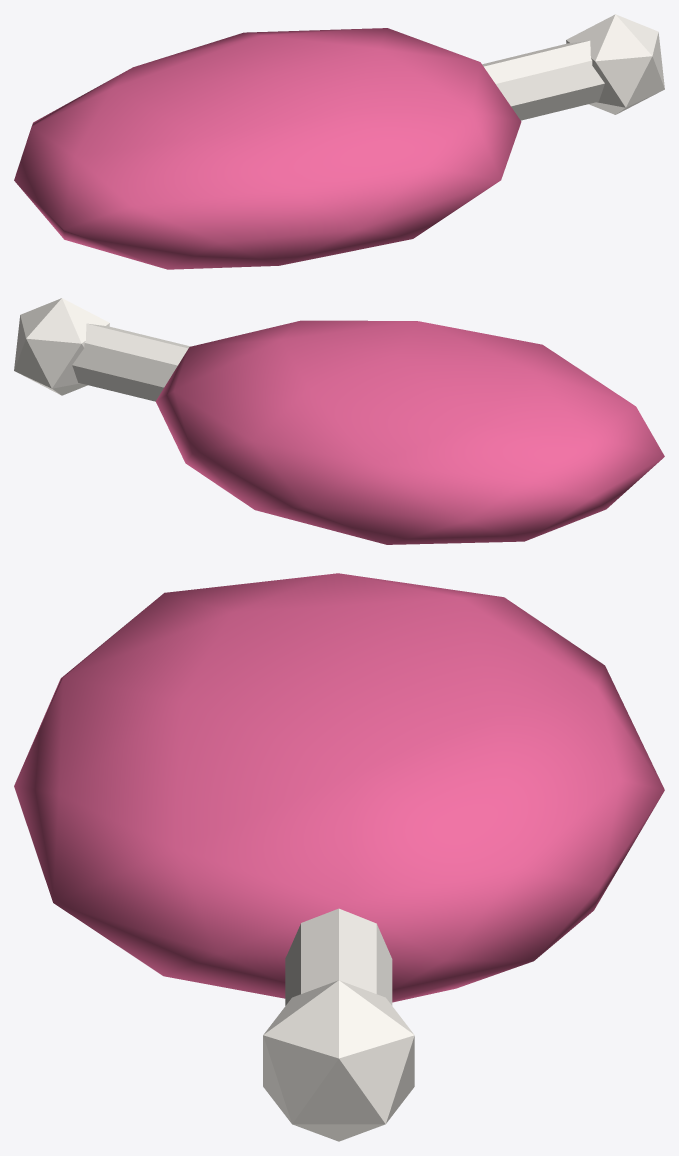
File: Bait_Steak.fbx
The picture shows the model from 3 angles, top to bottom: view 1: azimuth 30°, elevation 25°; view 2: azimuth 150°, elevation 25°; view 3: azimuth 270°, elevation 25°; orthographic projection. The views are drawn at different scales.
Visible parts, largest first — view 1: Bait.002, Stone.002; view 2: Bait.002, Stone.002; view 3: Bait.002, Stone.002.
Part boxes in pixels (left/top/right/bottom): Bait.002: left=14, top=28, right=521, bottom=269; Stone.002: left=482, top=14, right=664, bottom=120; Bait.002: left=155, top=320, right=664, bottom=544; Stone.002: left=14, top=298, right=190, bottom=401; Bait.002: left=14, top=573, right=664, bottom=1002; Stone.002: left=263, top=908, right=414, bottom=1141.
Bounding box in the file's own units: 2.61 × 0.5767 × 1.46.
